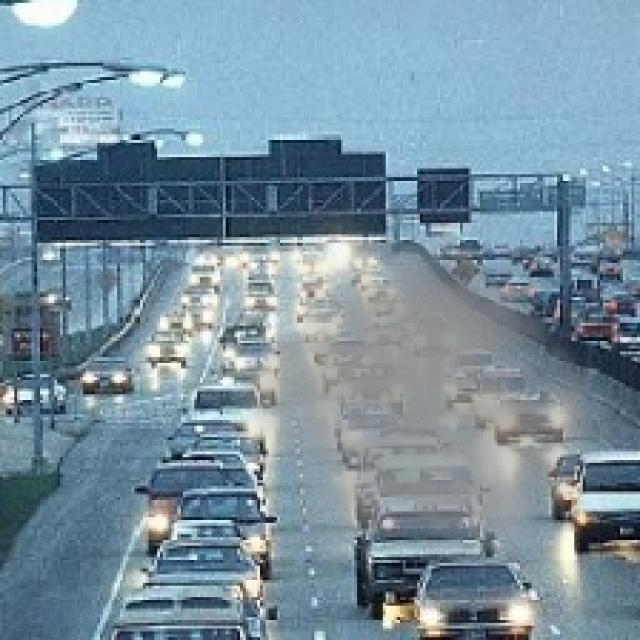Smoke: (217, 199, 632, 572)
